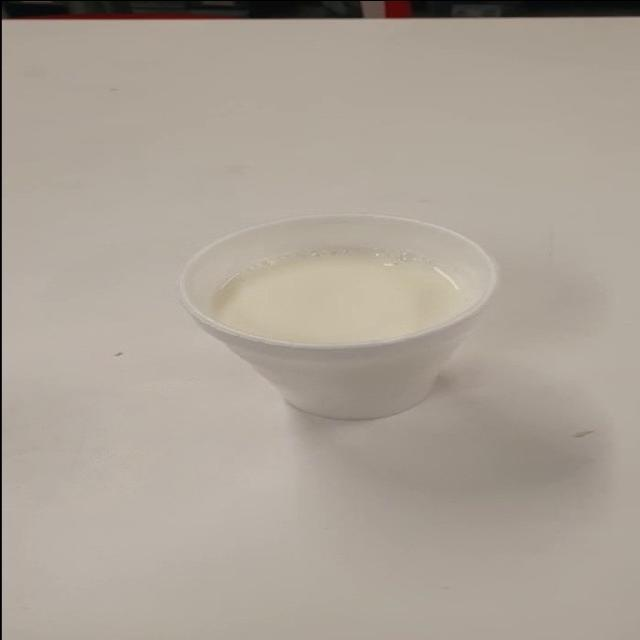Milk: (164, 199, 510, 441)
